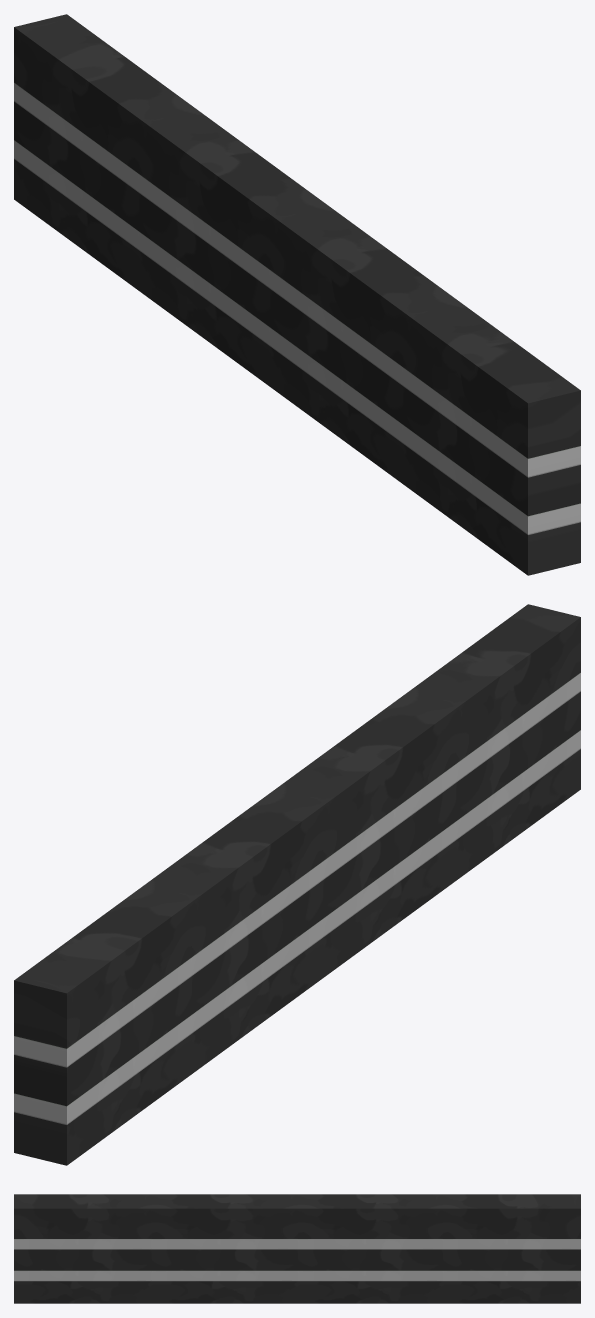
The model's file is Wall_01.fbx.
3 renders of one model, top to bottom at view 1: azimuth 30°, elevation 25°; view 2: azimuth 150°, elevation 25°; view 3: azimuth 270°, elevation 25°, orthographic. The views are drawn at different scales.
Parts seen in each view (by area): view 1: Wall_01; view 2: Wall_01; view 3: Wall_01.
Boxes of the visible parts, box(x1,y1,x2,y2) form: Wall_01: box(14, 14, 580, 575); Wall_01: box(14, 604, 580, 1165); Wall_01: box(14, 1194, 580, 1303).
Size of the model in its own units: 35.63 by 111 by 600.
Materials: 1 (1 with a texture image).
